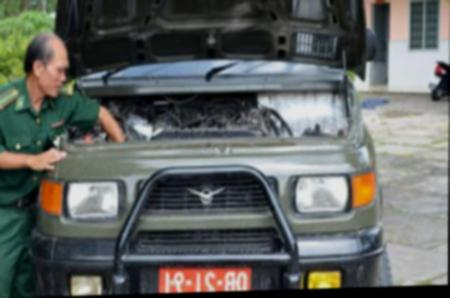License_Plate: (155, 264, 255, 292)
